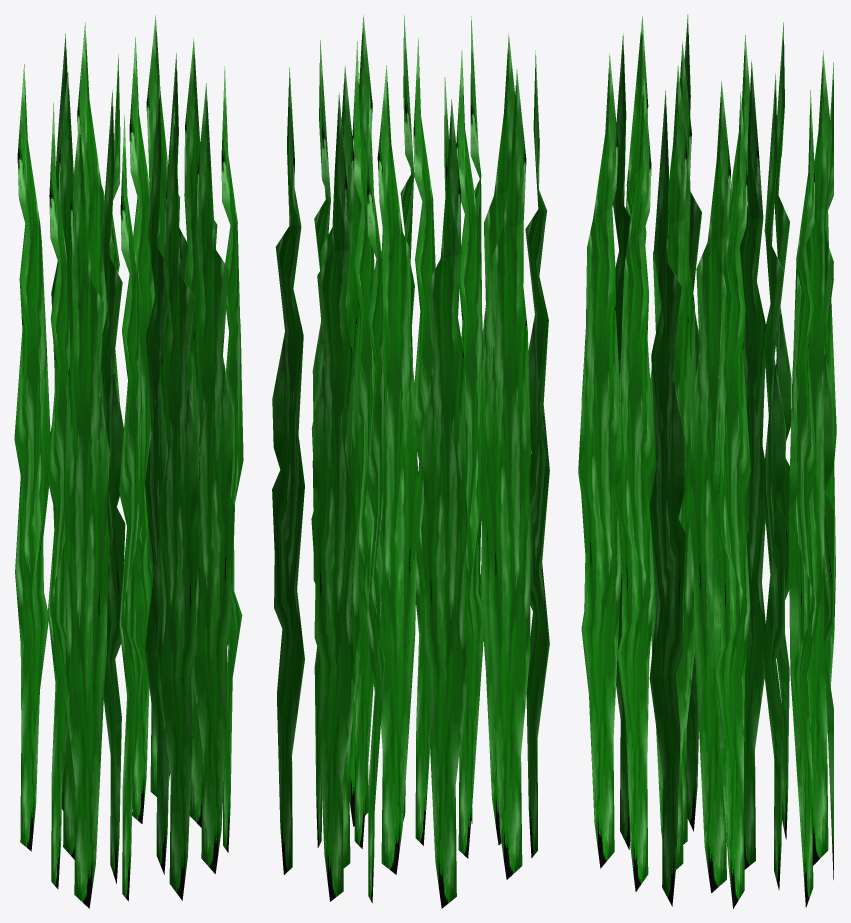
The model's file is seaweed1.fbx.
The picture shows the model from 3 angles, left to right: view 1: azimuth 30°, elevation 25°; view 2: azimuth 150°, elevation 25°; view 3: azimuth 270°, elevation 25°; orthographic projection. The views are drawn at different scales.
Parts seen in each view (by area): view 1: leaf1.001, leaf1; view 2: leaf1.001, leaf1; view 3: leaf1.001, leaf1.
Boxes of the visible parts, <box> form: leaf1.001: <box>14,15,243,908</box>; leaf1: <box>145,80,169,874</box>; leaf1.001: <box>272,14,549,908</box>; leaf1: <box>413,40,435,845</box>; leaf1.001: <box>578,14,836,908</box>; leaf1: <box>650,65,691,869</box>.
Size of the model in its own units: 0.0606 by 0.2352 by 0.0673.
Materials: 2 (2 with a texture image).
